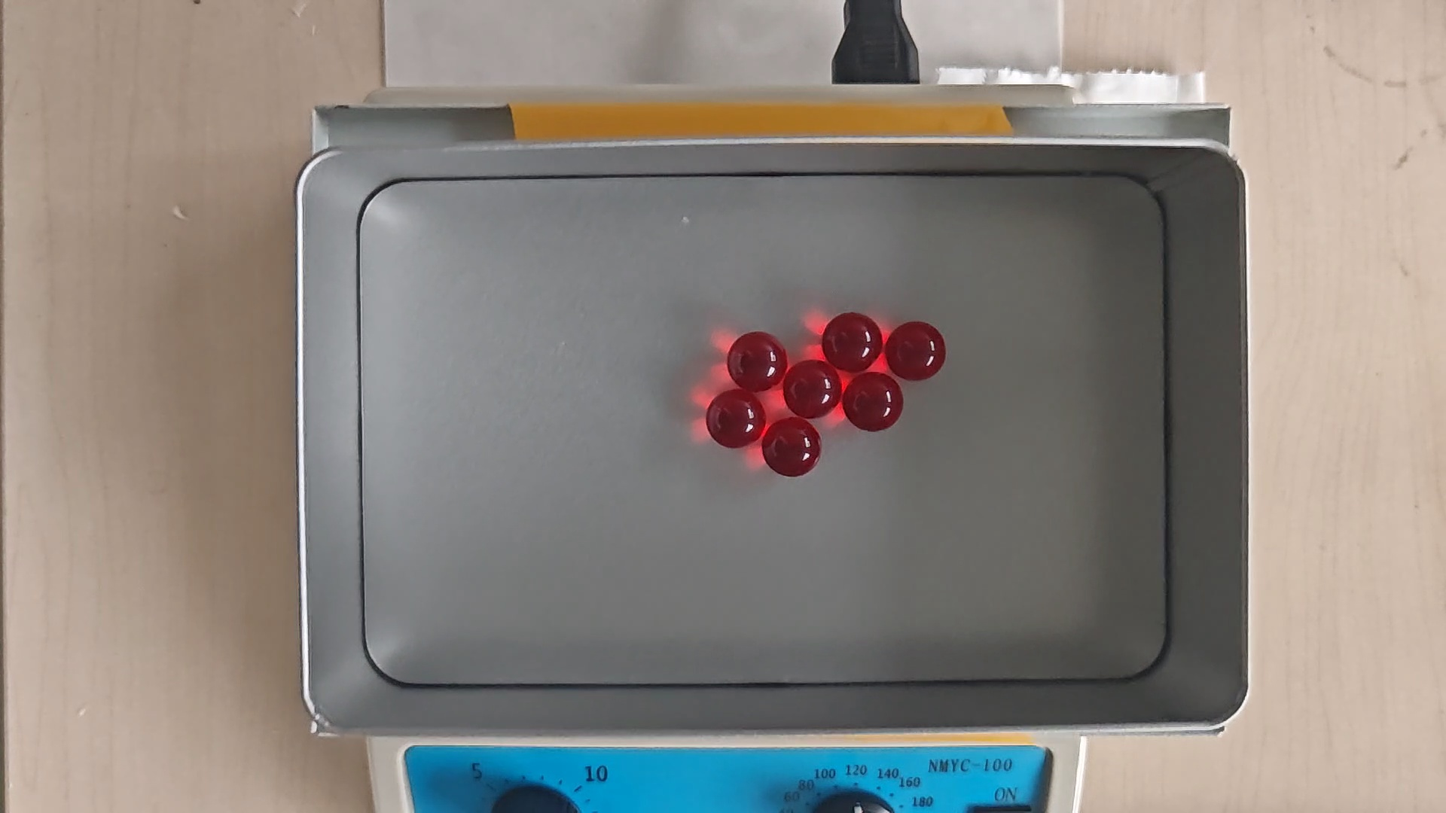ball: (727, 330, 785, 390), (886, 321, 946, 379), (845, 372, 902, 432), (823, 311, 879, 371), (763, 419, 822, 474), (709, 391, 764, 447), (785, 361, 839, 418)
container: (355, 175, 1165, 687)
